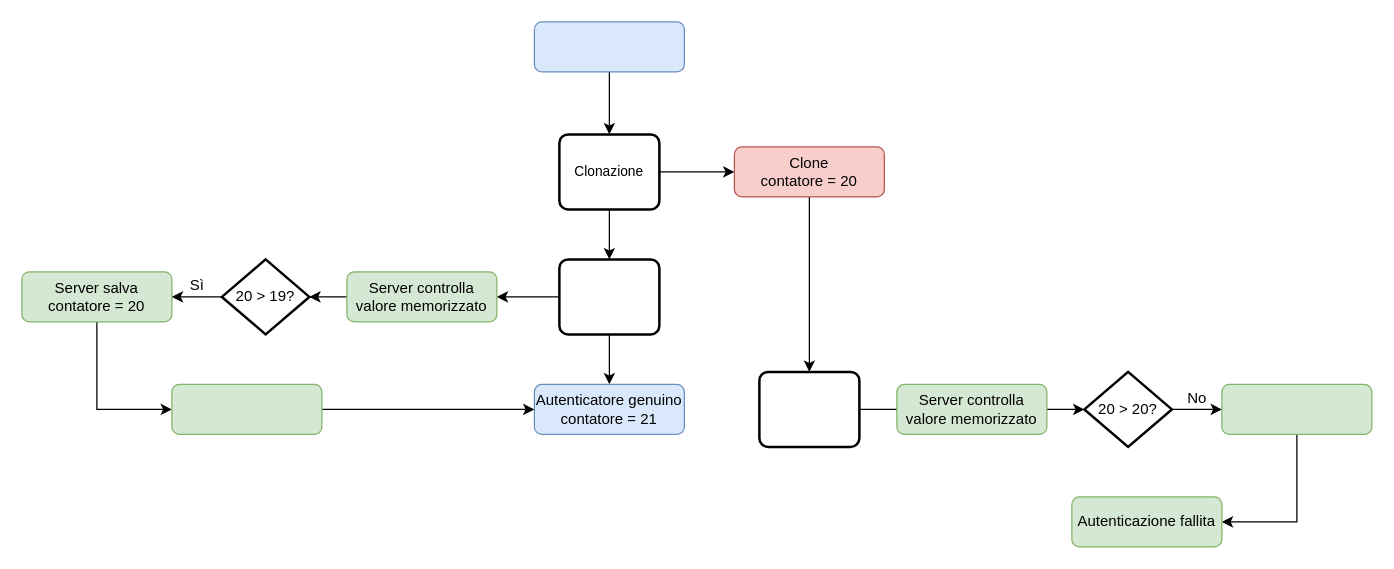
The diagram is 1394 pixels wide and 569 high, and some of its shapes have lost their labels. The shapes that lost their labels are listed below. From the top down, each one's box as (x1, y1, x2, y2) in pixels, then its label:
(533, 21, 684, 72): Autenticatore genuino contatore = 20
(558, 258, 660, 335): Autenticazione (a t = 1)
(171, 383, 322, 434): Autenticazione riuscita
(758, 370, 860, 448): Autenticazione (a t = 2)
(1221, 383, 1372, 434): Server rileva clonazione
